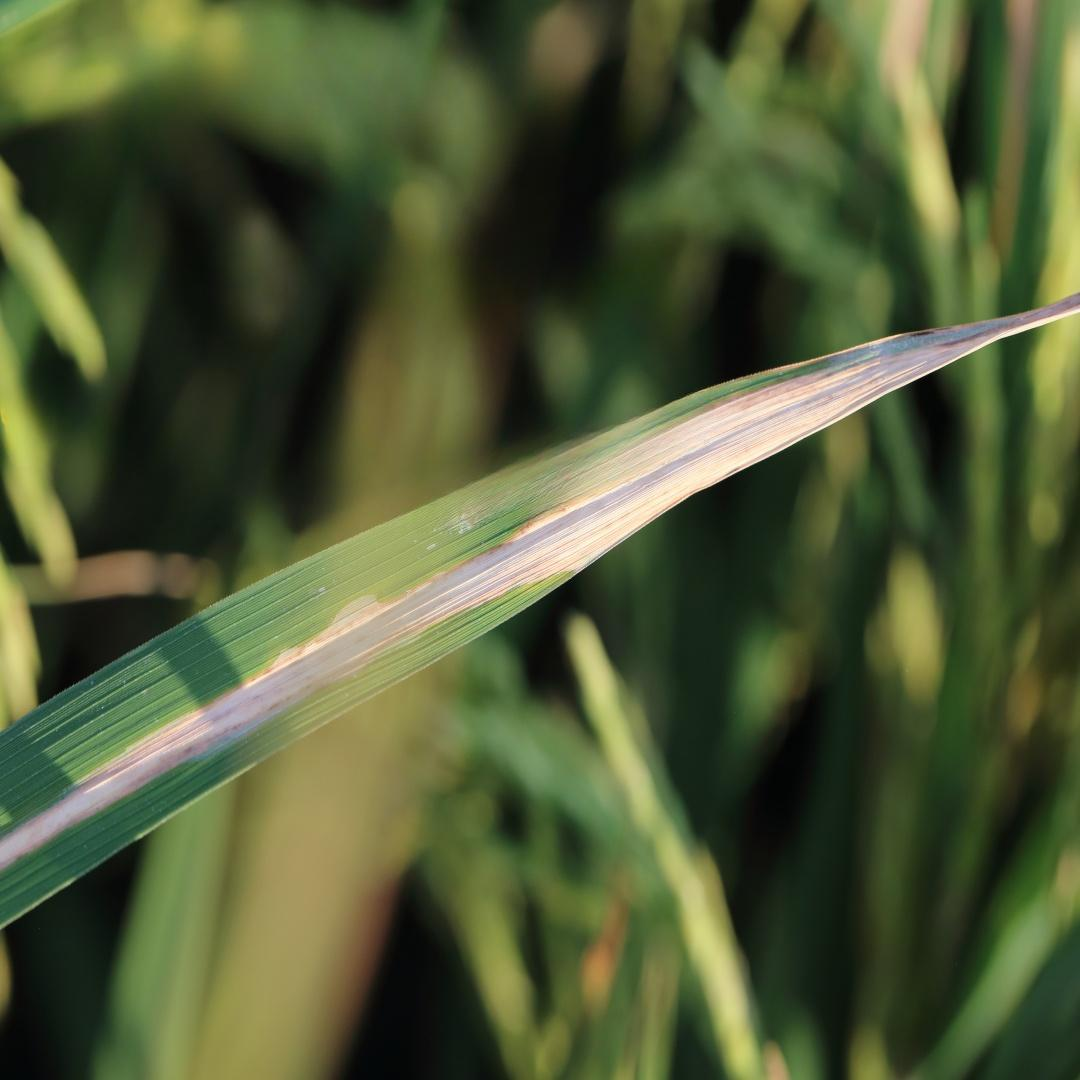BLB: (0, 294, 1079, 870)
LEAF: (0, 293, 1079, 926)
